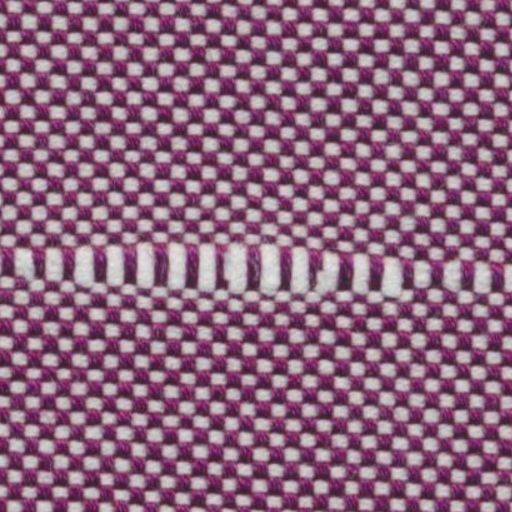DaiSha: (14, 230, 496, 312)
